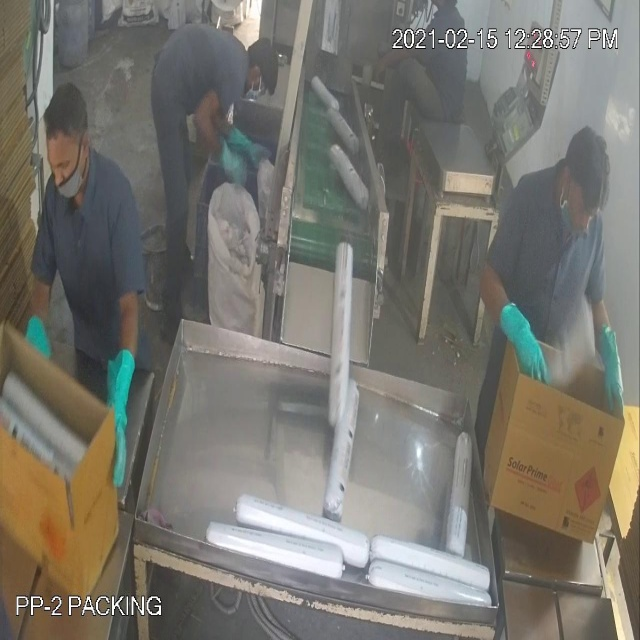Guantes: (487, 289, 555, 402), (94, 343, 140, 495), (585, 311, 632, 427)
Sin_guantes: (360, 32, 432, 75)
